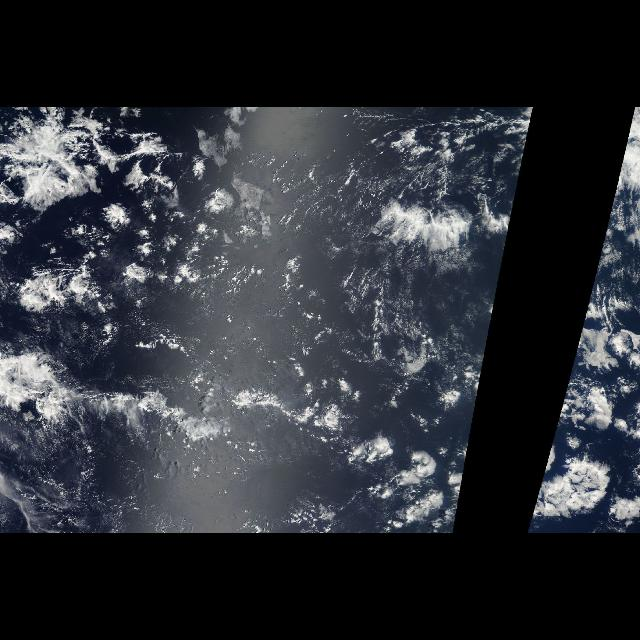Fish: (0, 358, 324, 470)
Flower: (526, 324, 640, 534), (449, 324, 491, 534)
Sugar: (288, 112, 516, 212)
